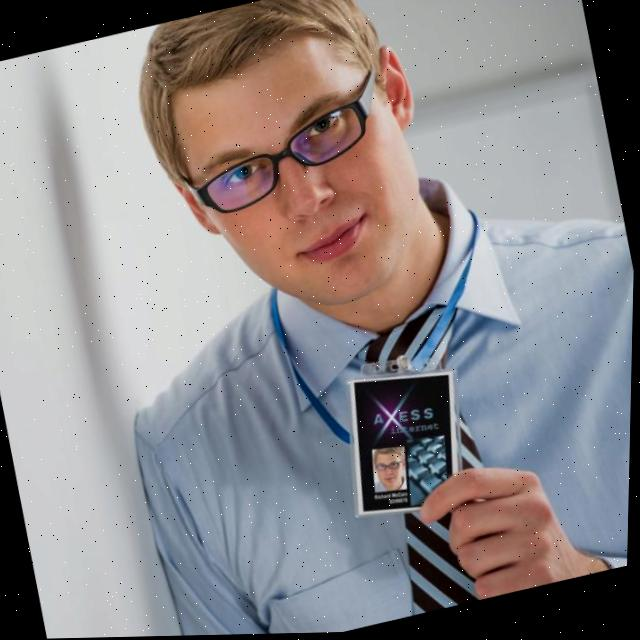id_card: (244, 201, 543, 548)
